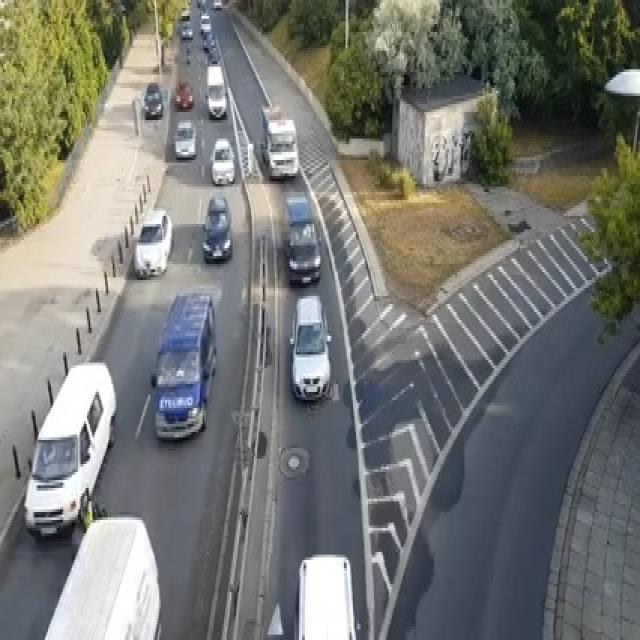bus: (22, 360, 116, 536), (36, 512, 161, 637), (293, 552, 358, 637)
car: (150, 291, 217, 440), (288, 293, 330, 400), (282, 195, 322, 285), (260, 104, 297, 179), (132, 208, 171, 277), (202, 195, 232, 261), (209, 136, 234, 184), (206, 64, 227, 117), (173, 120, 195, 157), (143, 83, 162, 117), (175, 80, 192, 109), (203, 32, 216, 51), (206, 48, 219, 64), (180, 22, 192, 38), (200, 18, 210, 34), (180, 8, 190, 19), (212, 0, 222, 11), (200, 11, 209, 21), (197, 0, 206, 8)
